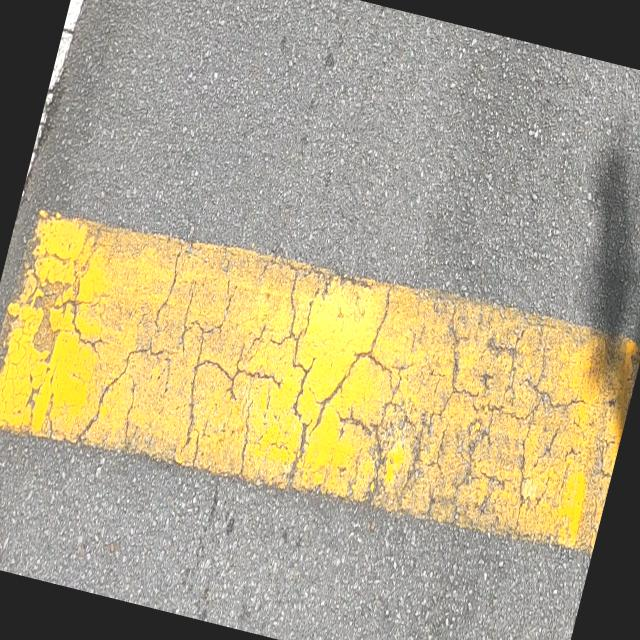Retak-Buaya: (65, 221, 582, 545)
